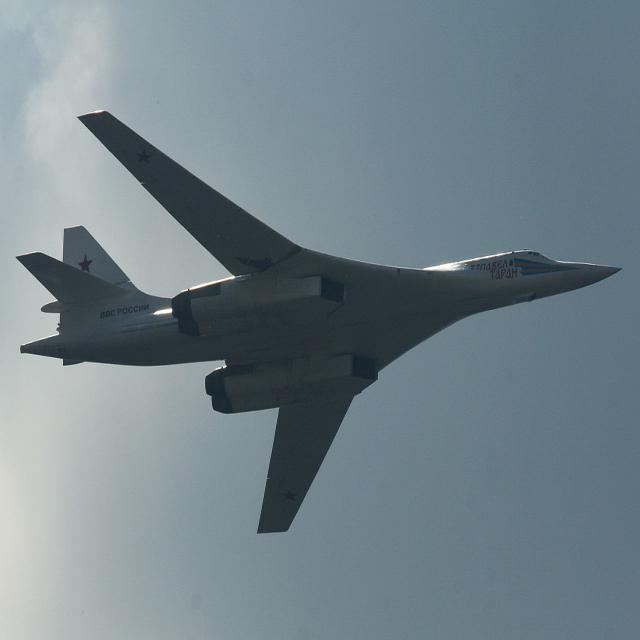MIL_Plane: (16, 111, 622, 534)
